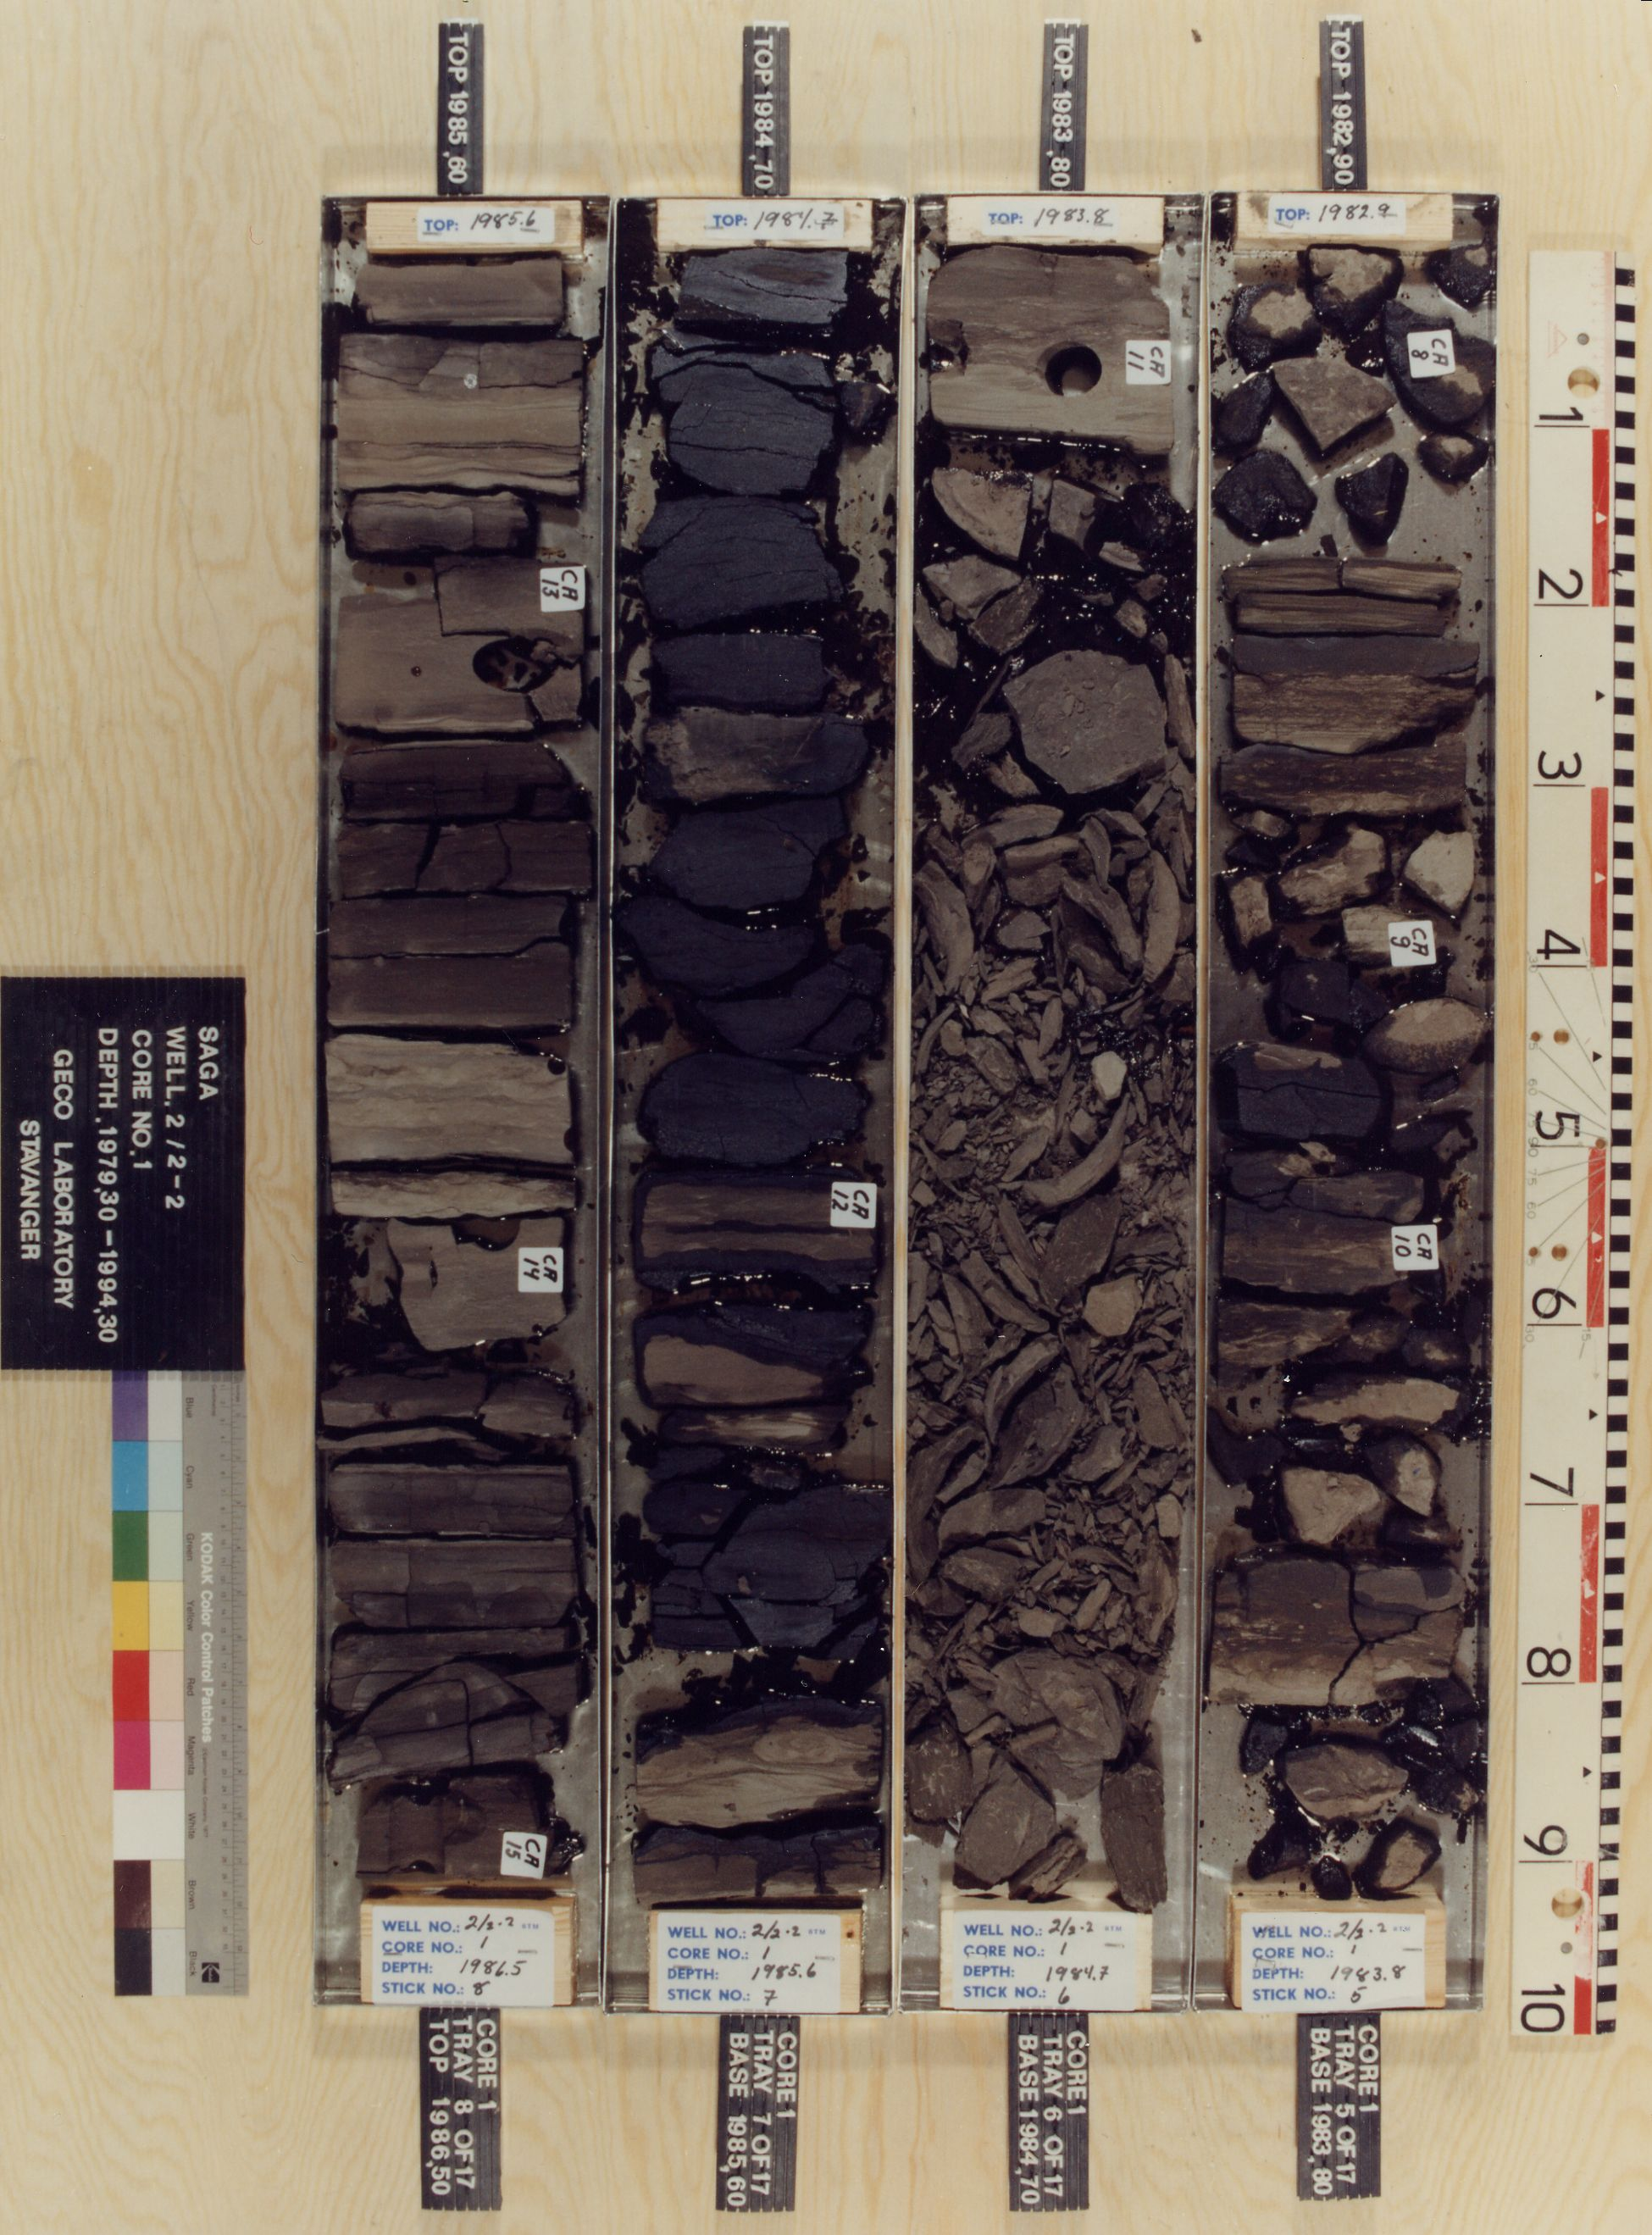core: (1206, 241, 1485, 1907), (913, 252, 1189, 1911), (324, 252, 593, 1895), (623, 248, 880, 1902)
